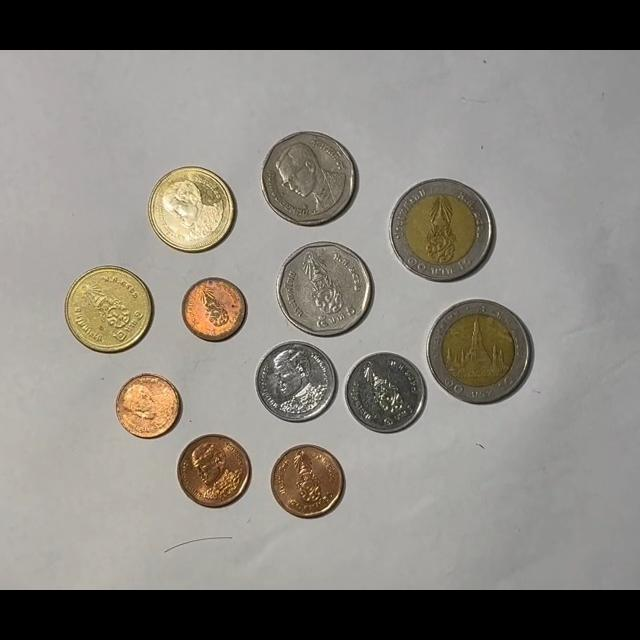1-baht: (255, 340, 338, 422), (344, 352, 427, 434)
10-baht: (426, 299, 532, 404), (388, 179, 494, 283)
2-baht: (65, 266, 153, 354), (148, 166, 236, 254)
25-satang: (116, 373, 183, 439), (182, 276, 248, 342)
5-baht: (261, 130, 359, 227), (276, 242, 374, 338)
50-satang: (177, 434, 252, 509), (271, 444, 345, 518)
